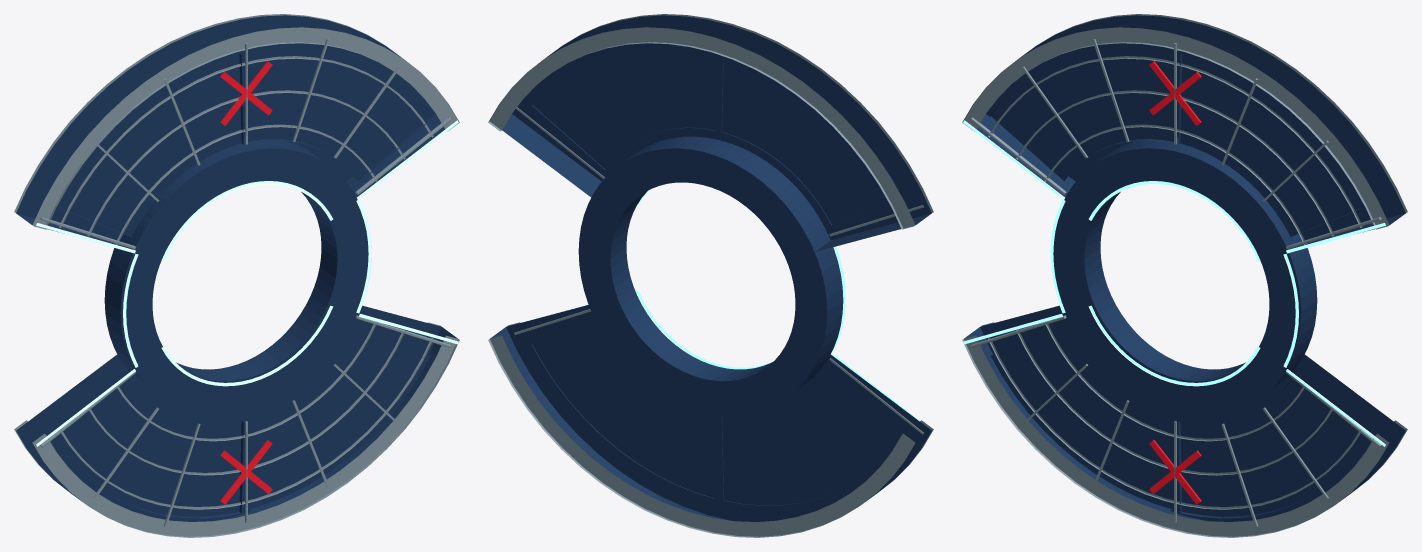
The model's file is foundry-panel-fun9-high.glb.
3 views of the same model, side by side, from view 1: azimuth 30°, elevation 25°; view 2: azimuth 150°, elevation 25°; view 3: azimuth 330°, elevation 25° (orthographic).
Visible parts, largest first — view 1: RENDER_PANEL_SHELL, RENDER_PANEL_FRAME, RENDER_PANEL_SIGNAL, RENDER_PANEL_HAZARD; view 2: RENDER_PANEL_SHELL, RENDER_PANEL_FRAME, RENDER_PANEL_SIGNAL; view 3: RENDER_PANEL_SHELL, RENDER_PANEL_FRAME, RENDER_PANEL_SIGNAL, RENDER_PANEL_HAZARD.
Part boxes in pixels (<box>): RENDER_PANEL_SHELL: <box>16,15,457,521</box>; RENDER_PANEL_FRAME: <box>14,14,459,537</box>; RENDER_PANEL_SIGNAL: <box>36,120,458,446</box>; RENDER_PANEL_HAZARD: <box>220,61,272,504</box>; RENDER_PANEL_SHELL: <box>490,15,931,521</box>; RENDER_PANEL_FRAME: <box>488,14,933,537</box>; RENDER_PANEL_SIGNAL: <box>549,190,920,421</box>; RENDER_PANEL_SHELL: <box>964,15,1405,521</box>; RENDER_PANEL_FRAME: <box>962,14,1407,537</box>; RENDER_PANEL_SIGNAL: <box>963,120,1385,446</box>; RENDER_PANEL_HAZARD: <box>1149,61,1201,504</box>.
Size of what is drawn, in the model's own units: 36.84 by 40.94 by 3.09.
